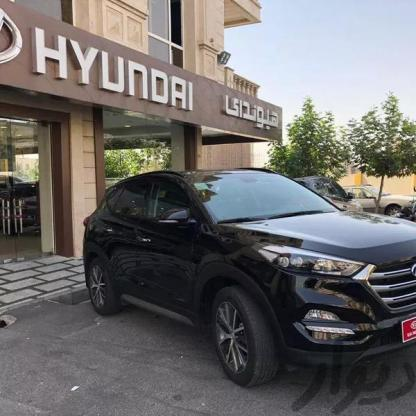Car: (81, 169, 414, 379), (340, 180, 416, 216)
